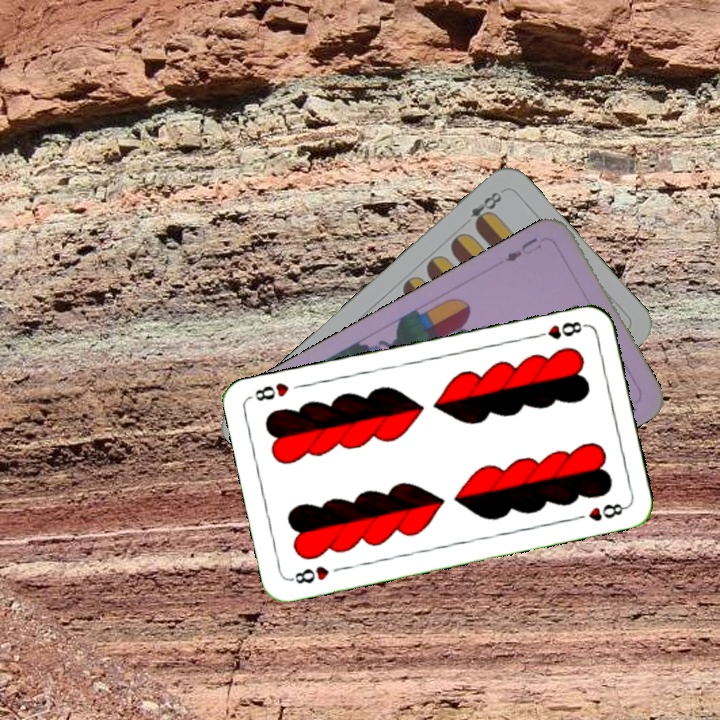E8: (466, 187, 504, 231)
EU: (501, 233, 544, 265)
H8: (530, 317, 589, 342), (286, 562, 332, 587)
